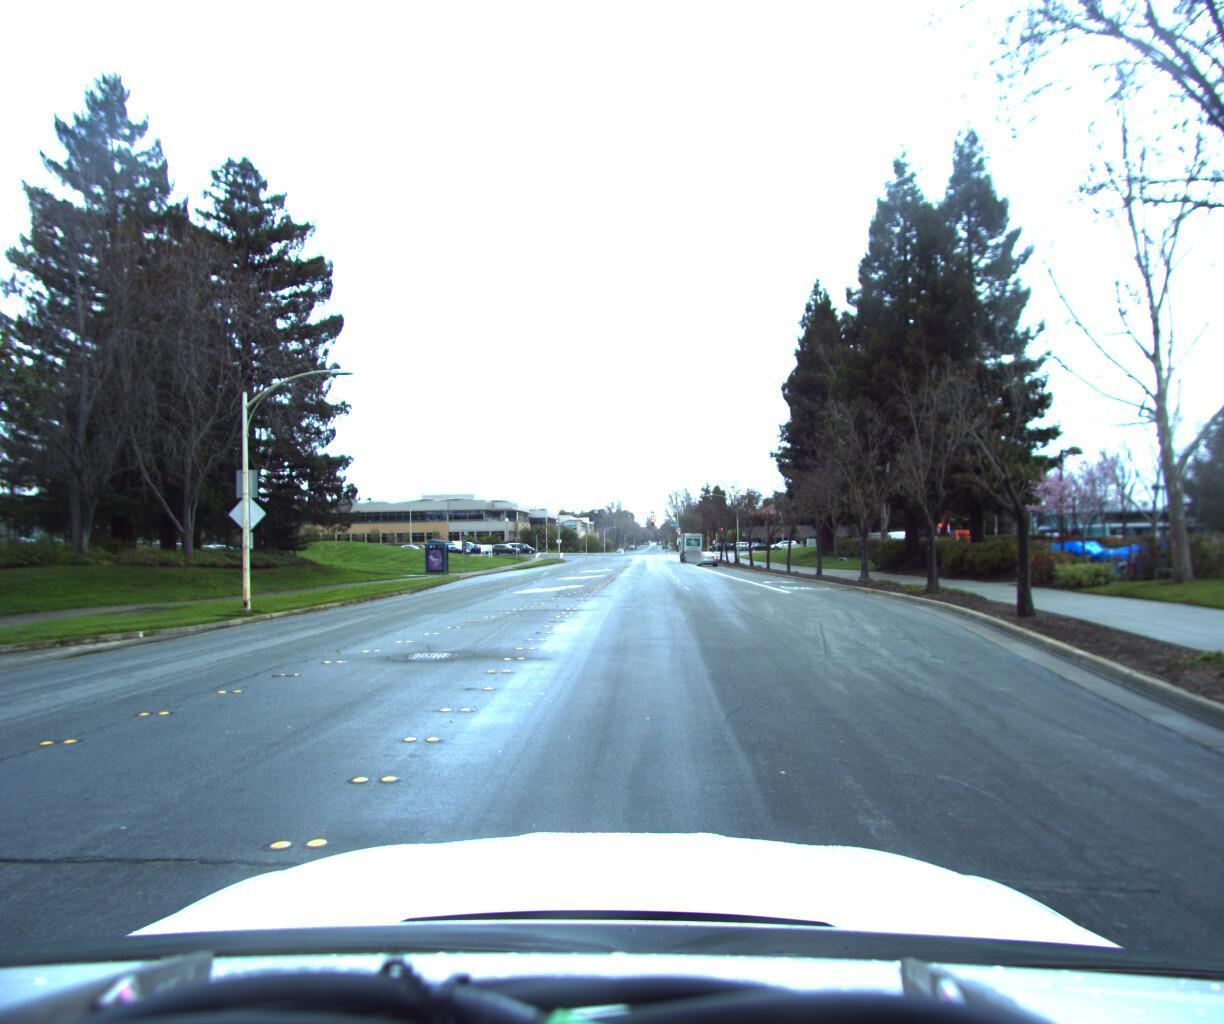car: (696, 551, 717, 568)
